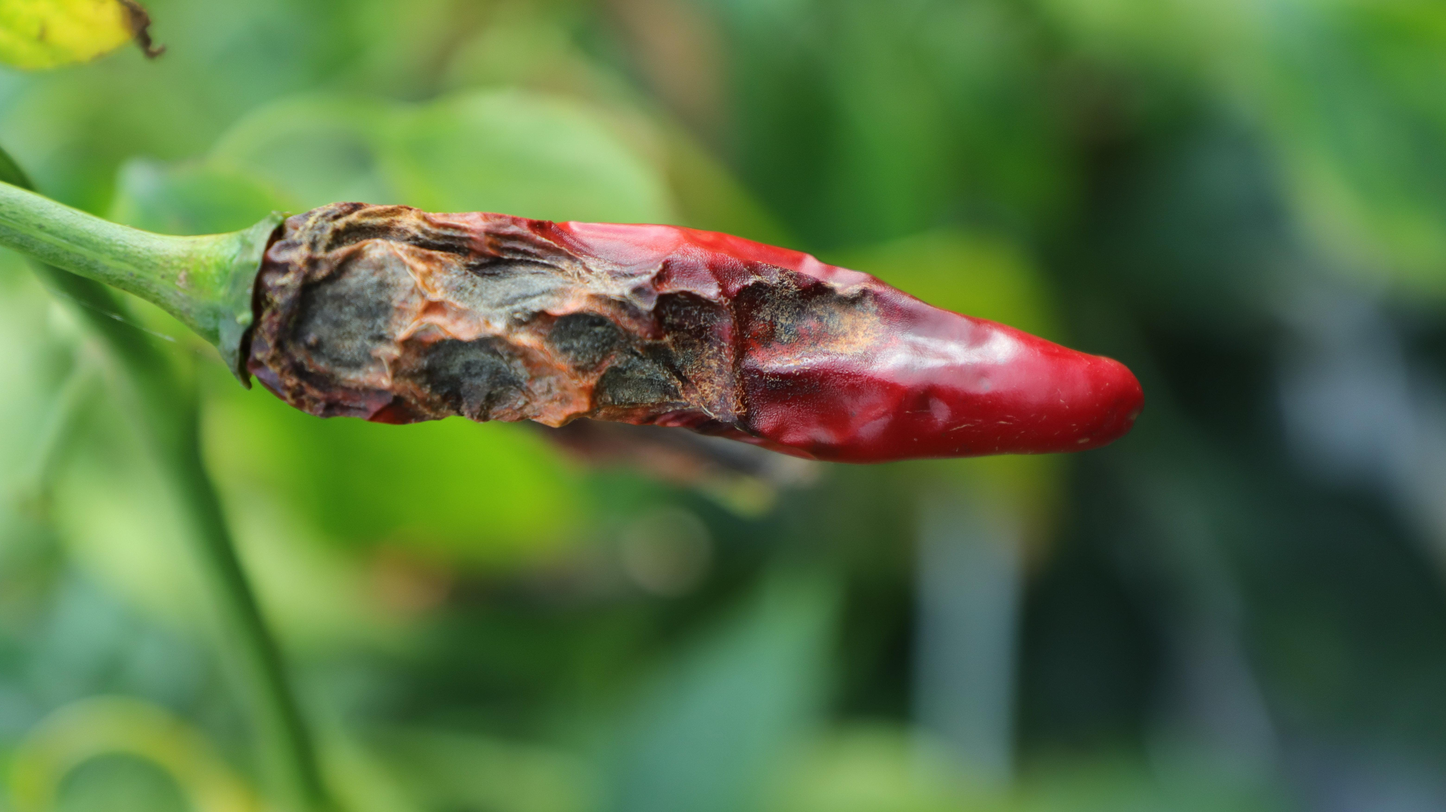Busuk Buah Antraknosa: (237, 201, 1146, 471)
